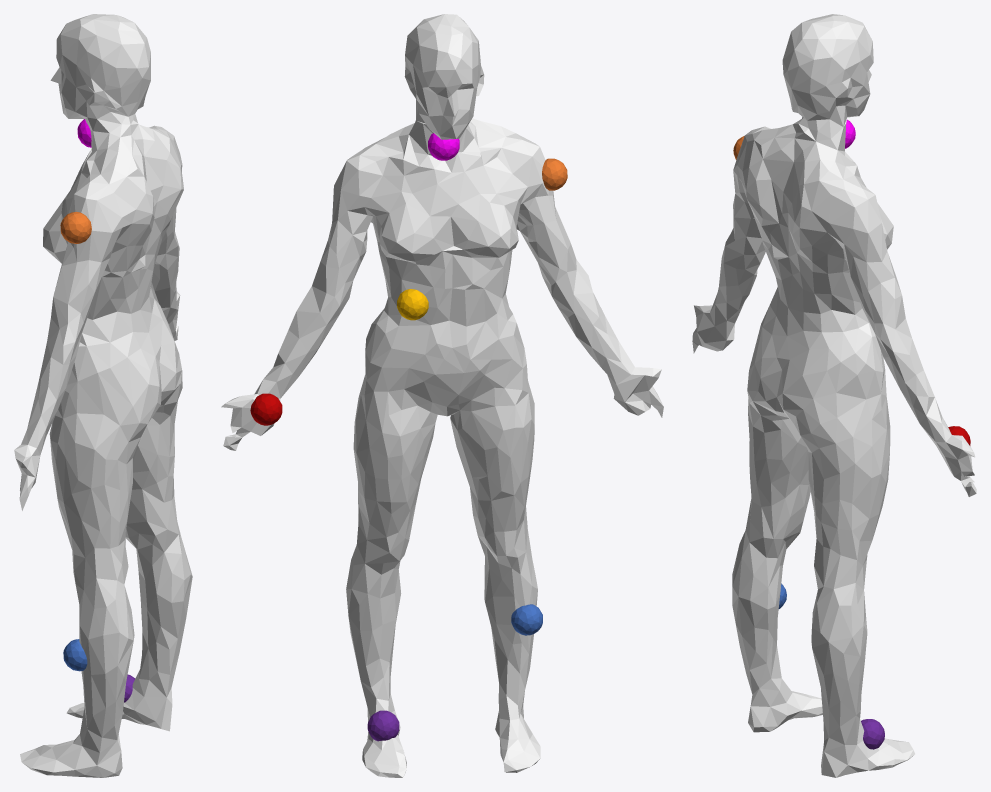
File: source_humantostick.obj
3 views of the same model, side by side, from view 1: azimuth 30°, elevation 25°; view 2: azimuth 150°, elevation 25°; view 3: azimuth 270°, elevation 25° (orthographic).
Size of the model in its own units: 1.08 by 2.49 by 0.8852.
Materials: 1 (1 with a texture image).
